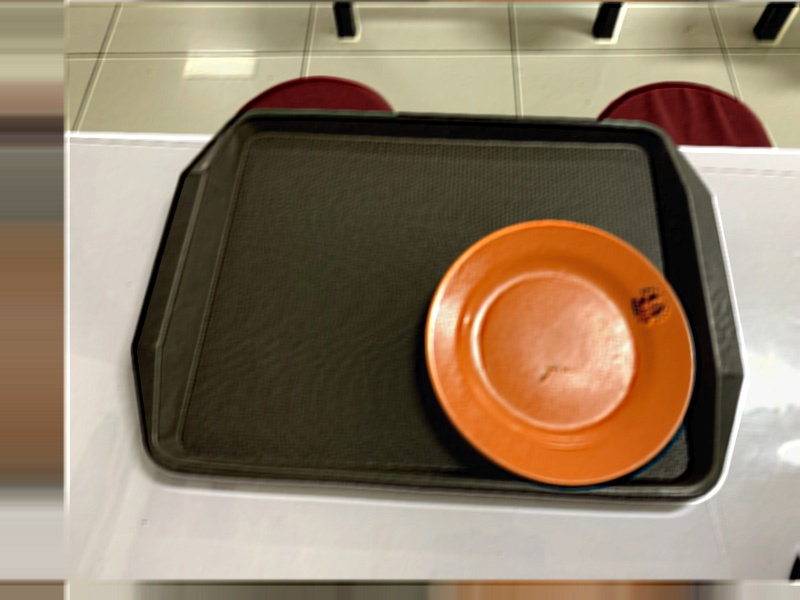dish10: (422, 217, 696, 490)
